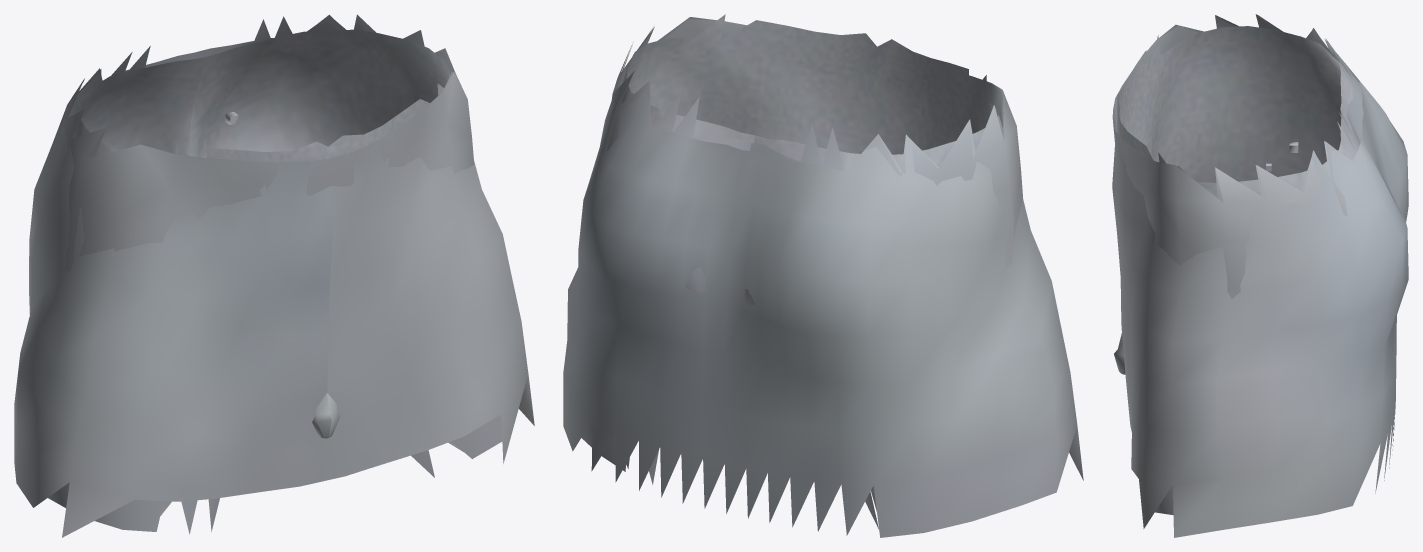
Rendered from makehuman-shorts.glb.
The picture shows the model from 3 angles, left to right: view 1: azimuth 30°, elevation 25°; view 2: azimuth 150°, elevation 25°; view 3: azimuth 270°, elevation 25°; orthographic projection. The views are drawn at different scales.
Parts seen in each view (by area): view 1: Cloth_shorts; view 2: Cloth_shorts; view 3: Cloth_shorts.
Boxes of the visible parts, left/top/right/bottom form: Cloth_shorts: left=14, top=14, right=534, bottom=537; Cloth_shorts: left=563, top=14, right=1083, bottom=537; Cloth_shorts: left=1112, top=14, right=1408, bottom=537.
Bounding box in the file's own units: 0.4401 × 0.3613 × 0.264.
Materials: 1 (1 with a texture image).
